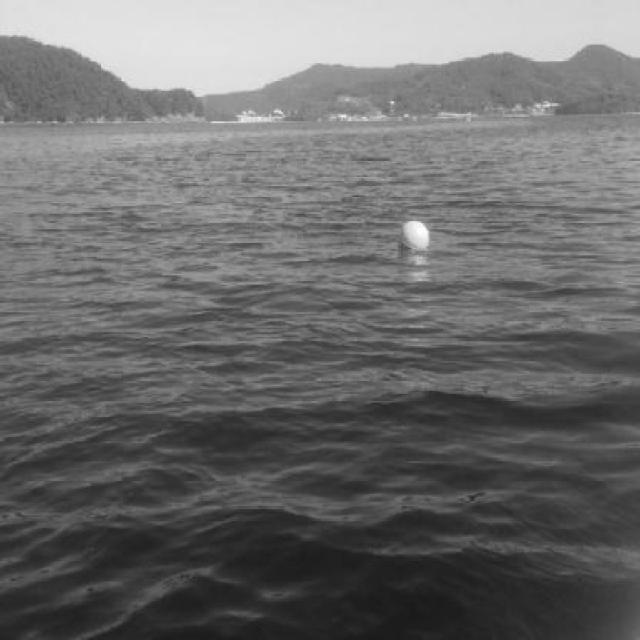a: (386, 209, 441, 260)
